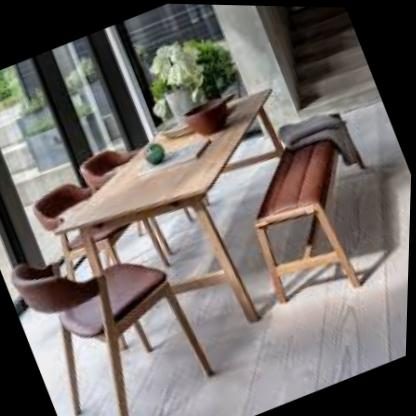Dining Table: (0, 24, 415, 416)
